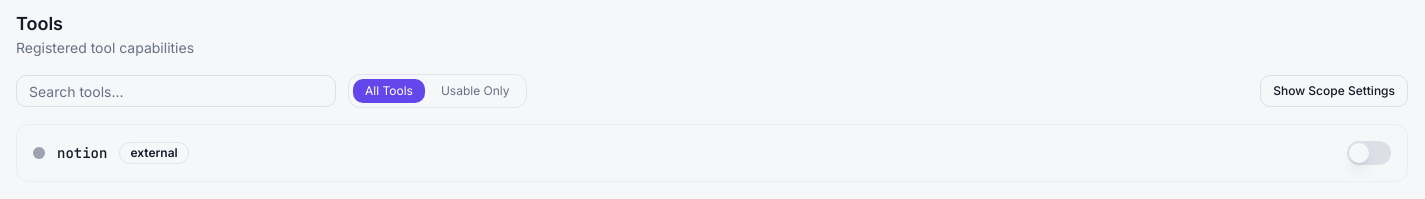
UX-M8: Tools All/Usable toggle › shows empty message when no usable tools match
The image size is (1425, 199).
Expected: the text "notion" is shown, [57,143,107,163]
Click the button with test id "filter-usable": point(475, 91) [429,79,522,103]
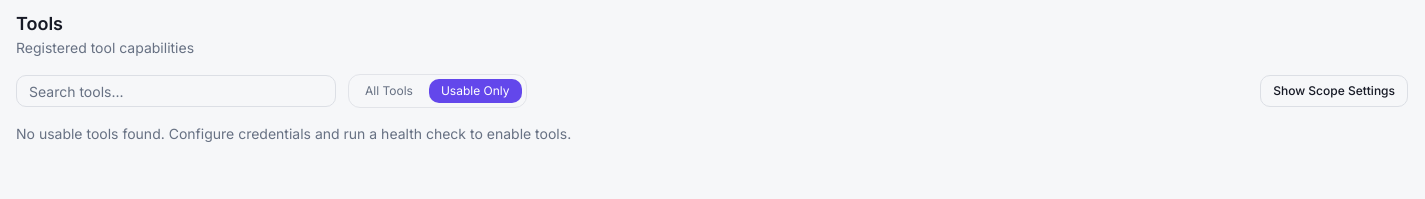
Expected: the text with test id "tools-empty" is shown, [16,125,571,142]
